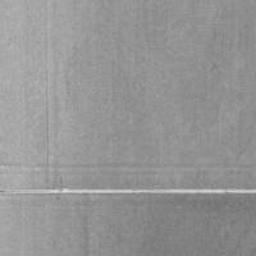Welding line: (0, 187, 256, 195)
